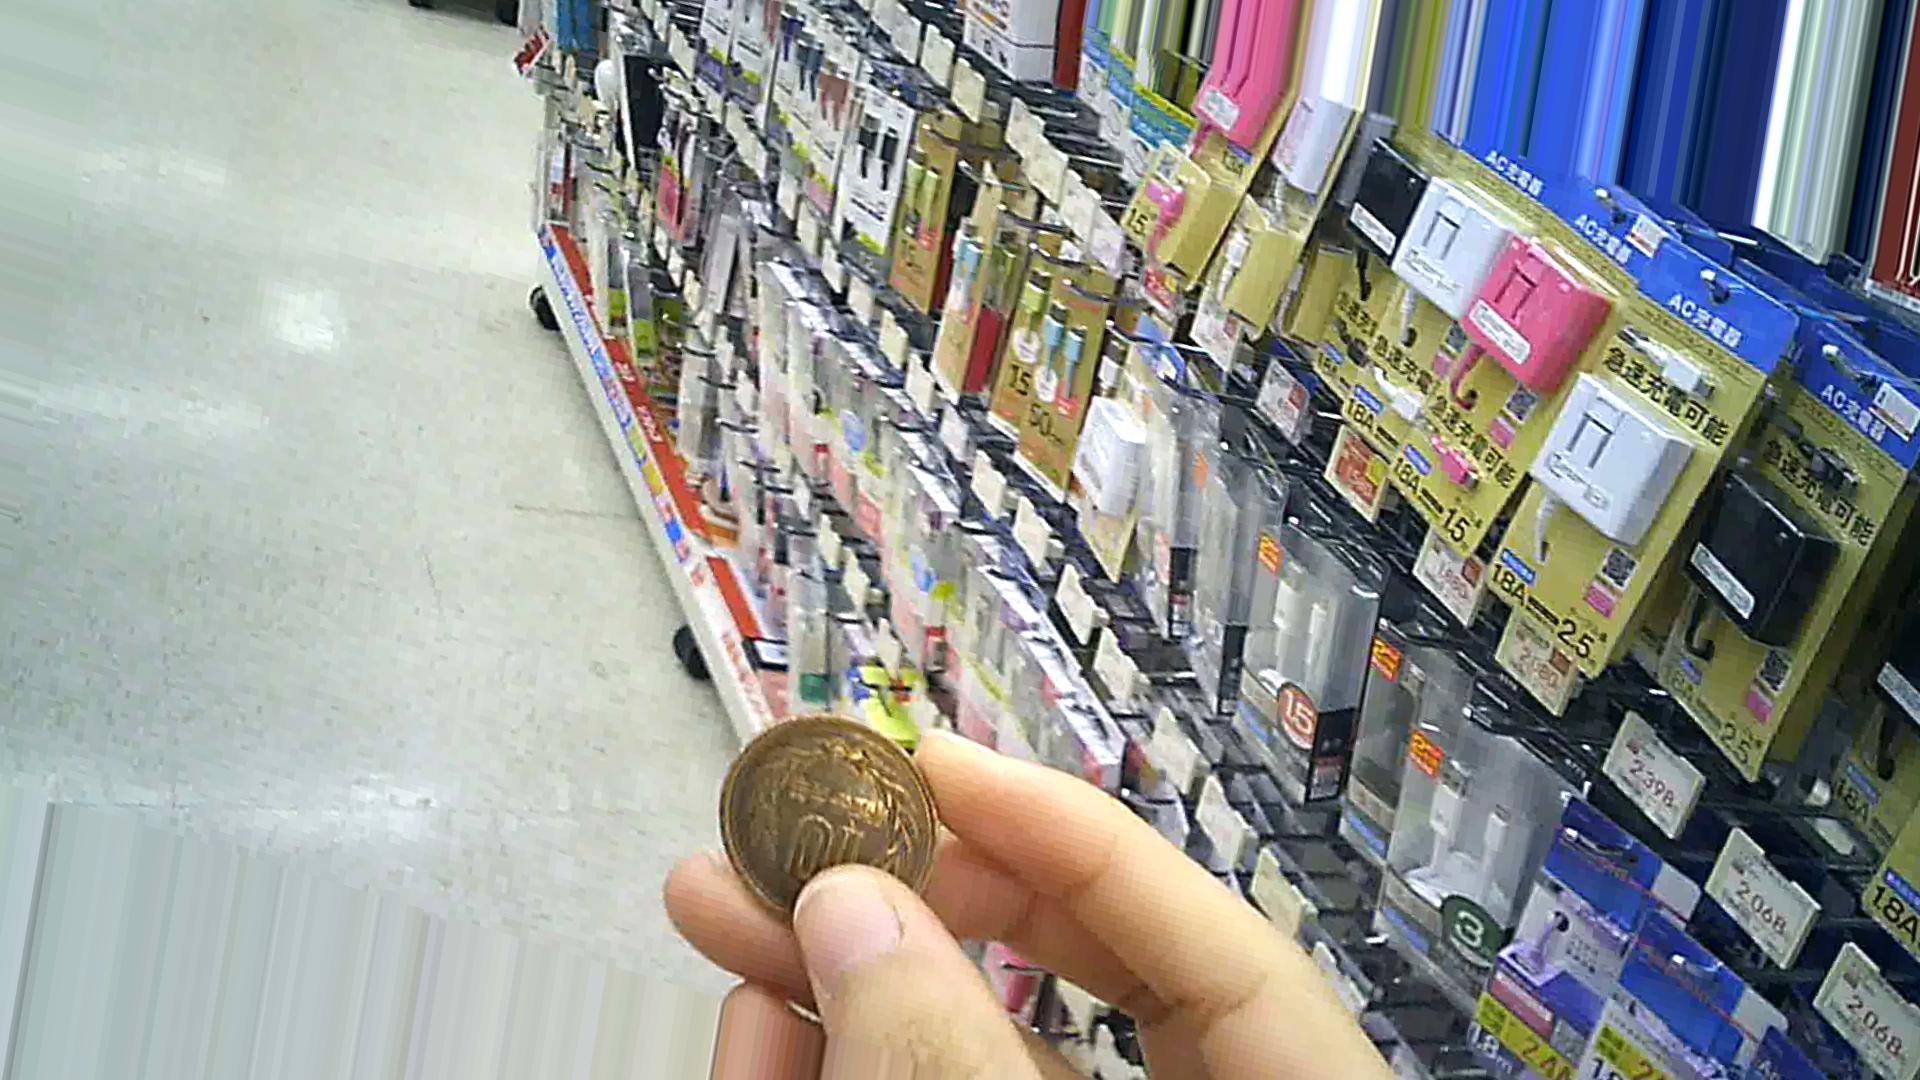10 Yen: (705, 709, 957, 928)
